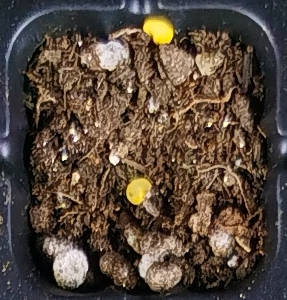chilli seed: (141, 15, 175, 45), (125, 176, 154, 206)
